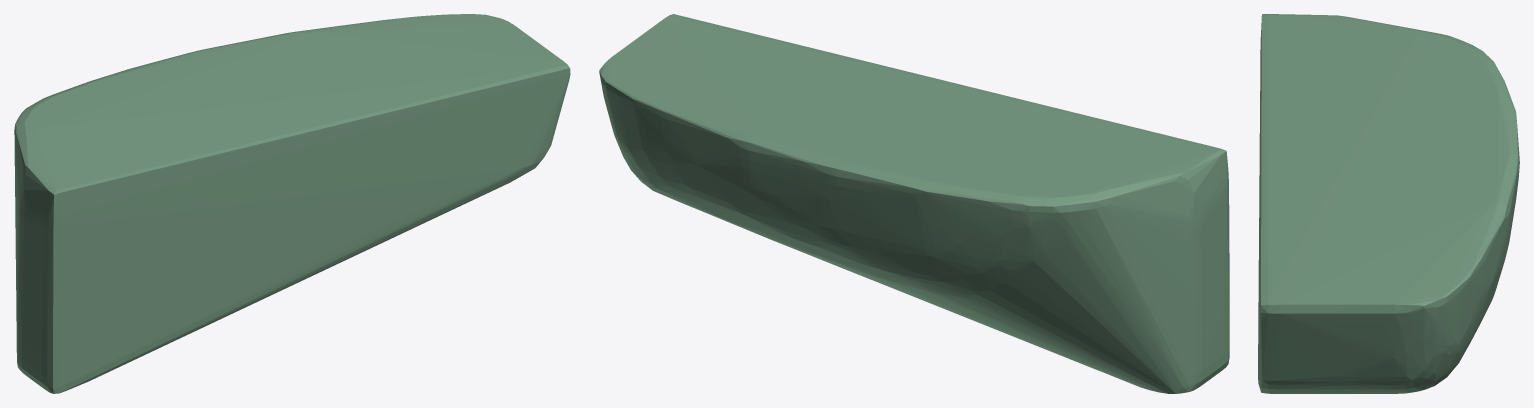
3 renders of one model, left to right at view 1: azimuth 30°, elevation 25°; view 2: azimuth 150°, elevation 25°; view 3: azimuth 270°, elevation 25°, orthographic. The views are drawn at different scales.
Size of the model in its own units: 0.1249 by 0.0473 by 0.0465.
